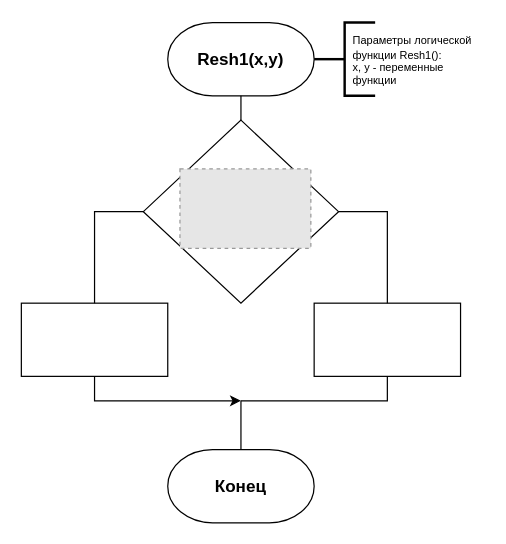
This 506x544 diagram has some shape labels left out. Grey dashed boxes stand in for pictures. Each missing label, with the centre of its shape:
"Resh1 = false" goes at (387,339).
"Resh1 = true" goes at (94,339).
